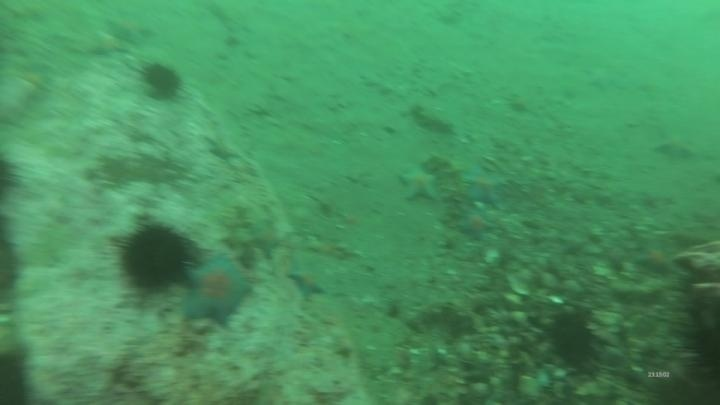echinus: (112, 217, 198, 296), (544, 308, 602, 371), (682, 314, 719, 386), (138, 59, 185, 103), (1, 345, 35, 405), (1, 234, 26, 302), (1, 151, 25, 206)
holothurian: (427, 151, 472, 216), (408, 102, 457, 137)
starfish: (178, 253, 254, 329), (460, 164, 510, 208), (396, 162, 443, 205), (102, 11, 157, 47), (243, 214, 286, 259), (285, 260, 330, 302), (632, 239, 680, 278), (650, 129, 699, 164), (582, 62, 630, 95), (455, 208, 497, 241), (88, 29, 132, 60), (304, 235, 351, 261), (204, 135, 245, 164)
